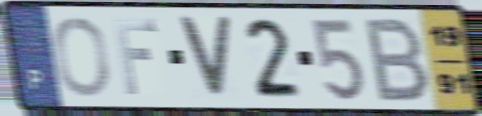2: (242, 16, 305, 101)
5: (308, 15, 367, 103)
B: (363, 15, 433, 104)
F: (110, 17, 161, 97)
O: (51, 14, 113, 99)
V: (174, 14, 235, 102)
